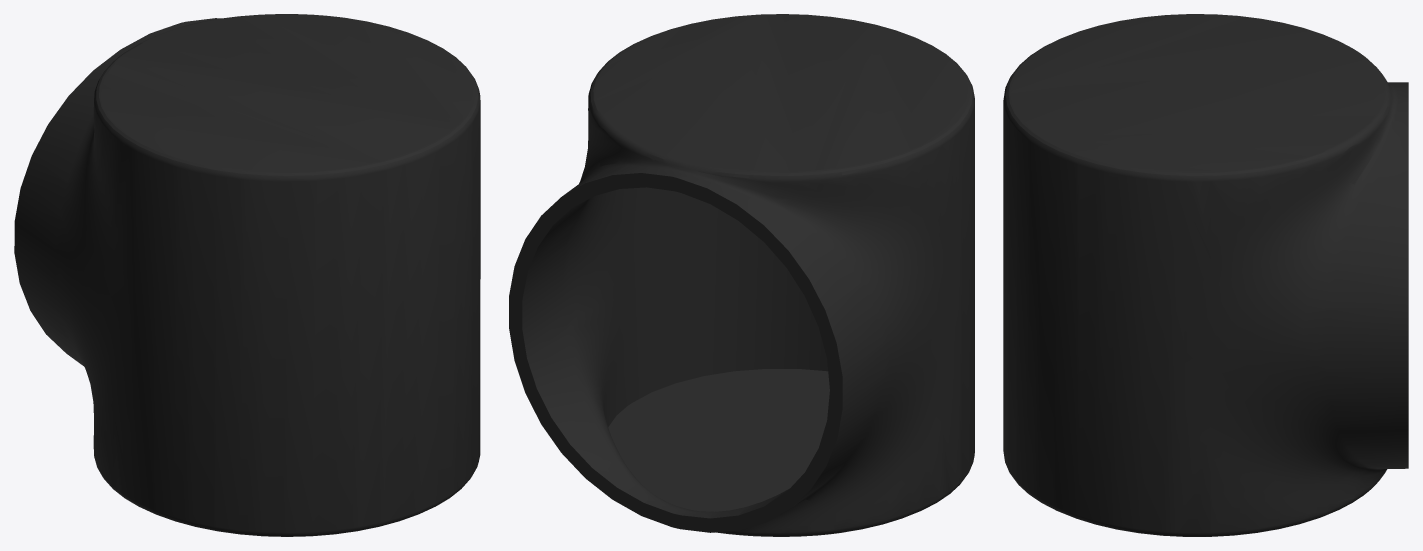
Rendered from head_yaw_j1_link.glb.
3 views of the same model, side by side, from view 1: azimuth 30°, elevation 25°; view 2: azimuth 150°, elevation 25°; view 3: azimuth 270°, elevation 25° (orthographic).
Visible parts, largest first — view 1: Mesh_0.011; view 2: Mesh_0.011; view 3: Mesh_0.011.
Part boxes in pixels (x1,y1,x2,y2): Mesh_0.011: [14, 14, 480, 536]; Mesh_0.011: [509, 14, 974, 536]; Mesh_0.011: [1003, 14, 1408, 536].
Bounding box in the file's own units: 0.0751 × 0.078 × 0.0785.
1 material, 1 textured.
